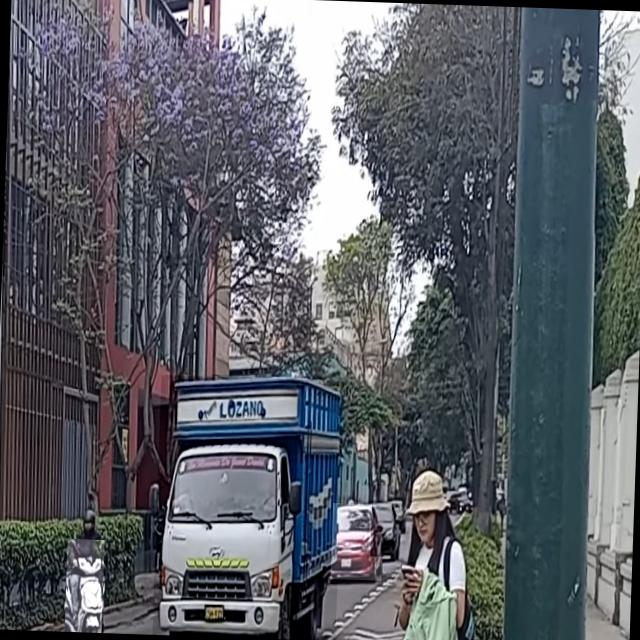car: (330, 503, 384, 580), (370, 502, 402, 558)
motorcycle: (64, 538, 104, 632)
truck: (152, 374, 344, 640)
